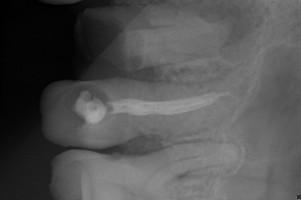Furcation Involvement: (197, 0, 270, 51)
